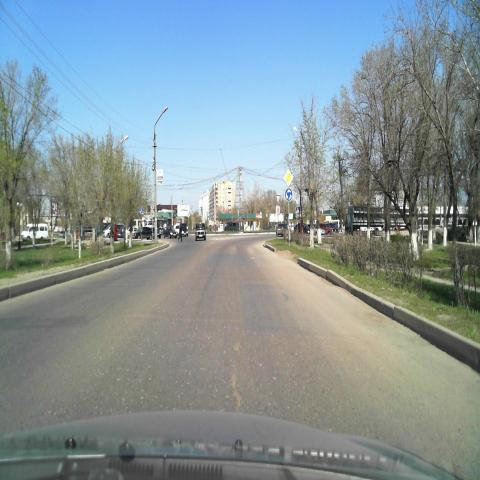2_2: (282, 167, 294, 187)
4_3: (284, 188, 292, 202)
